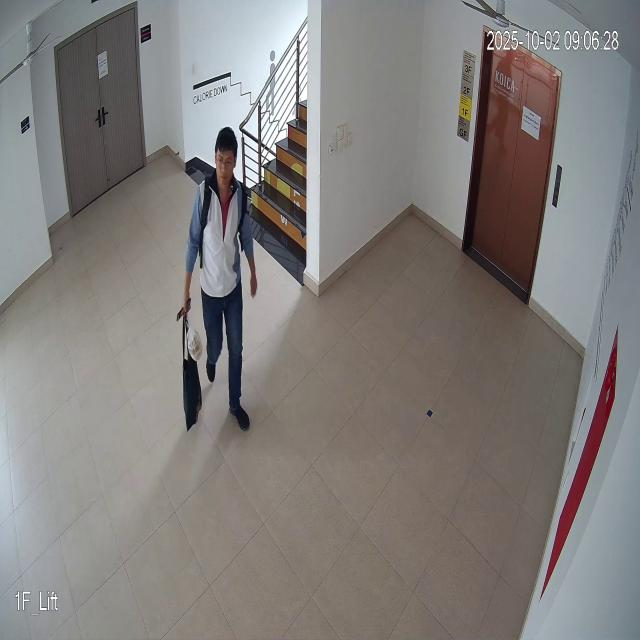face: (210, 125, 240, 193)
